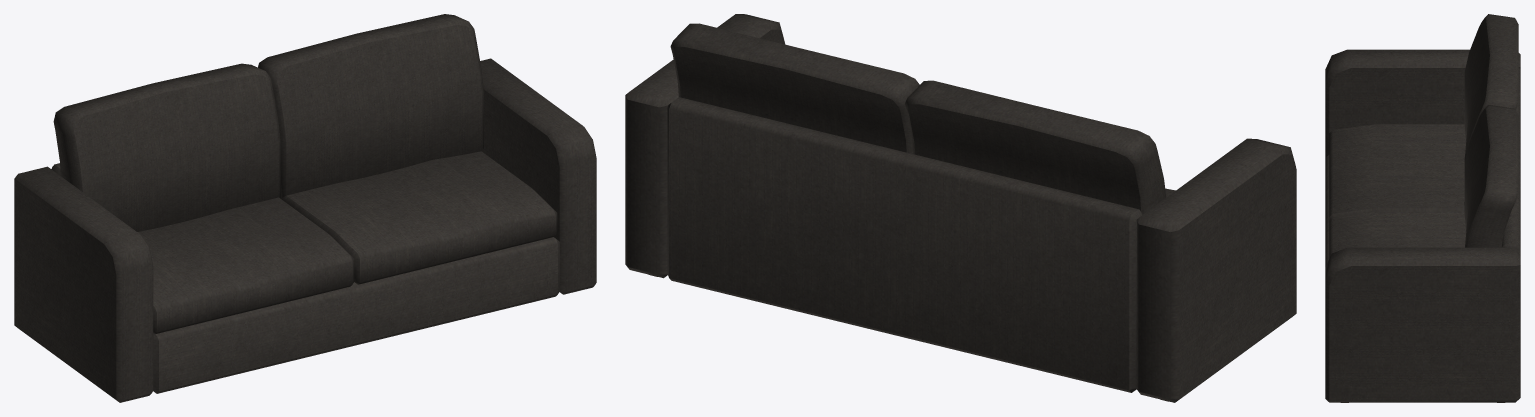
Rendered from sofa_1_3.obj.
3 renders of one model, left to right at view 1: azimuth 30°, elevation 25°; view 2: azimuth 150°, elevation 25°; view 3: azimuth 270°, elevation 25°, orthographic. The views are drawn at different scales.
Parts seen in each view (by area): view 1: sofa_1_3; view 2: sofa_1_3; view 3: sofa_1_3.
Part boxes in pixels (bbox=[...]): sofa_1_3: bbox=[14, 14, 596, 402]; sofa_1_3: bbox=[625, 14, 1296, 402]; sofa_1_3: bbox=[1325, 14, 1520, 402].
Size of the model in its own units: 2.6 by 1.15 by 1.
